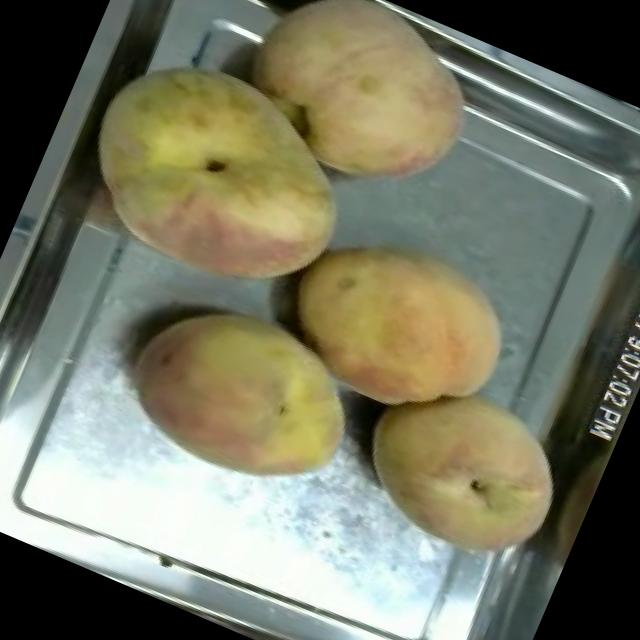Fruit: (46, 9, 394, 328), (99, 264, 388, 522), (257, 198, 536, 450), (210, 0, 503, 227), (328, 346, 594, 592)
